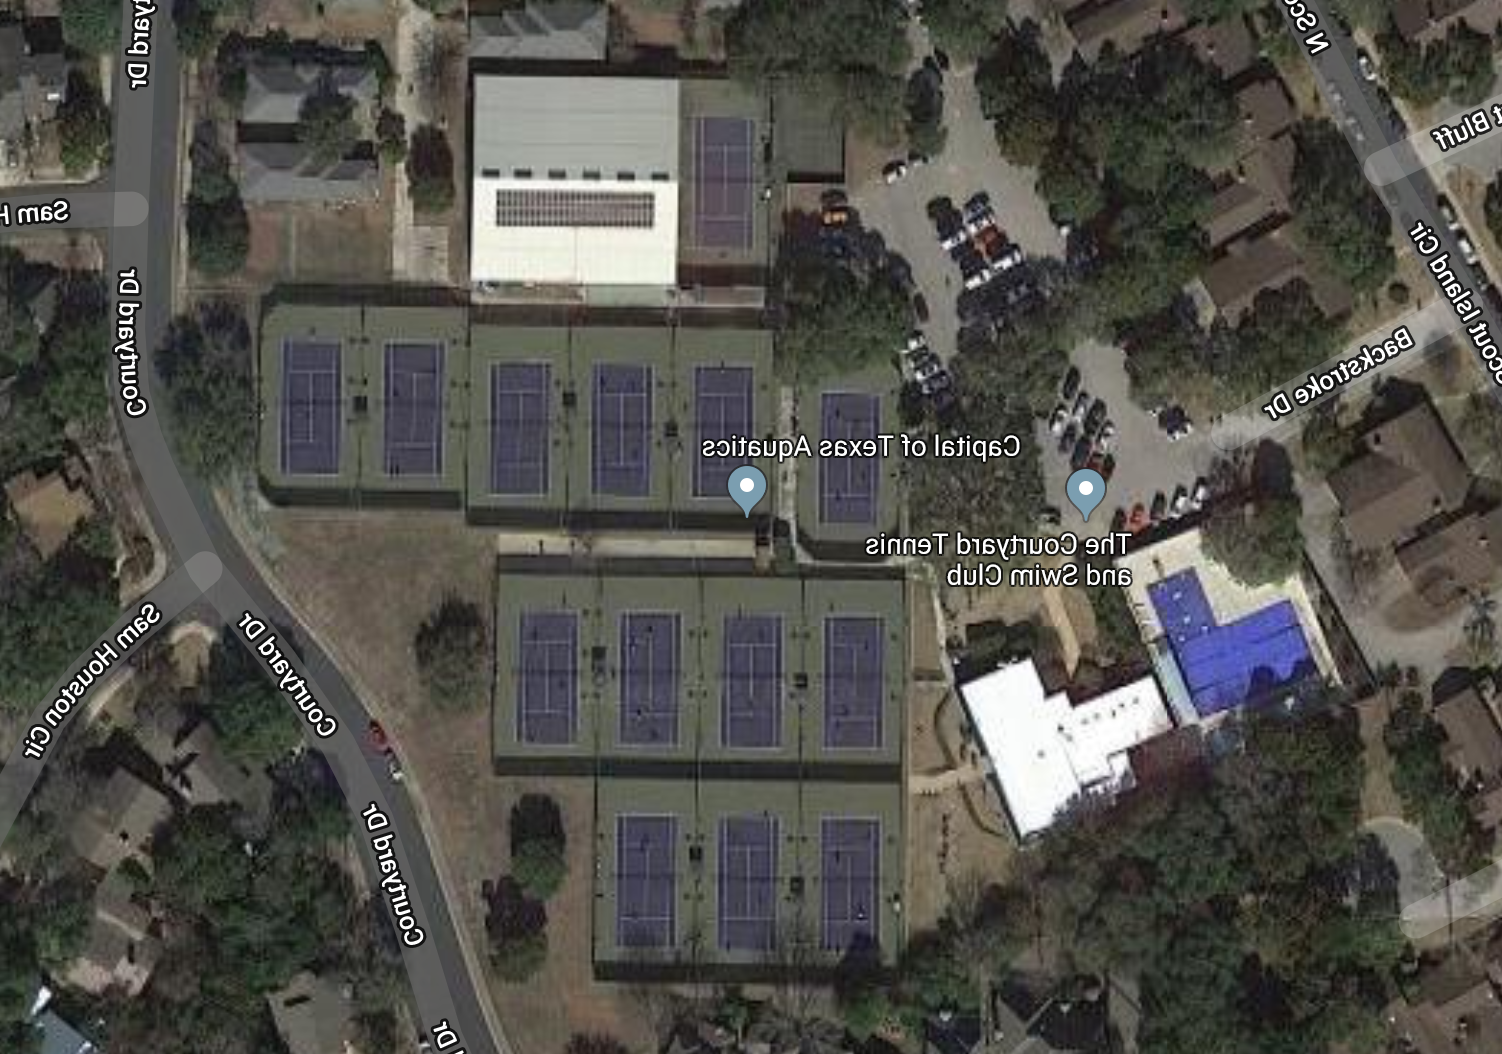tennis: (609, 595, 705, 778), (375, 322, 463, 506), (485, 602, 583, 761), (601, 804, 694, 969), (259, 335, 350, 493), (483, 338, 562, 506)
